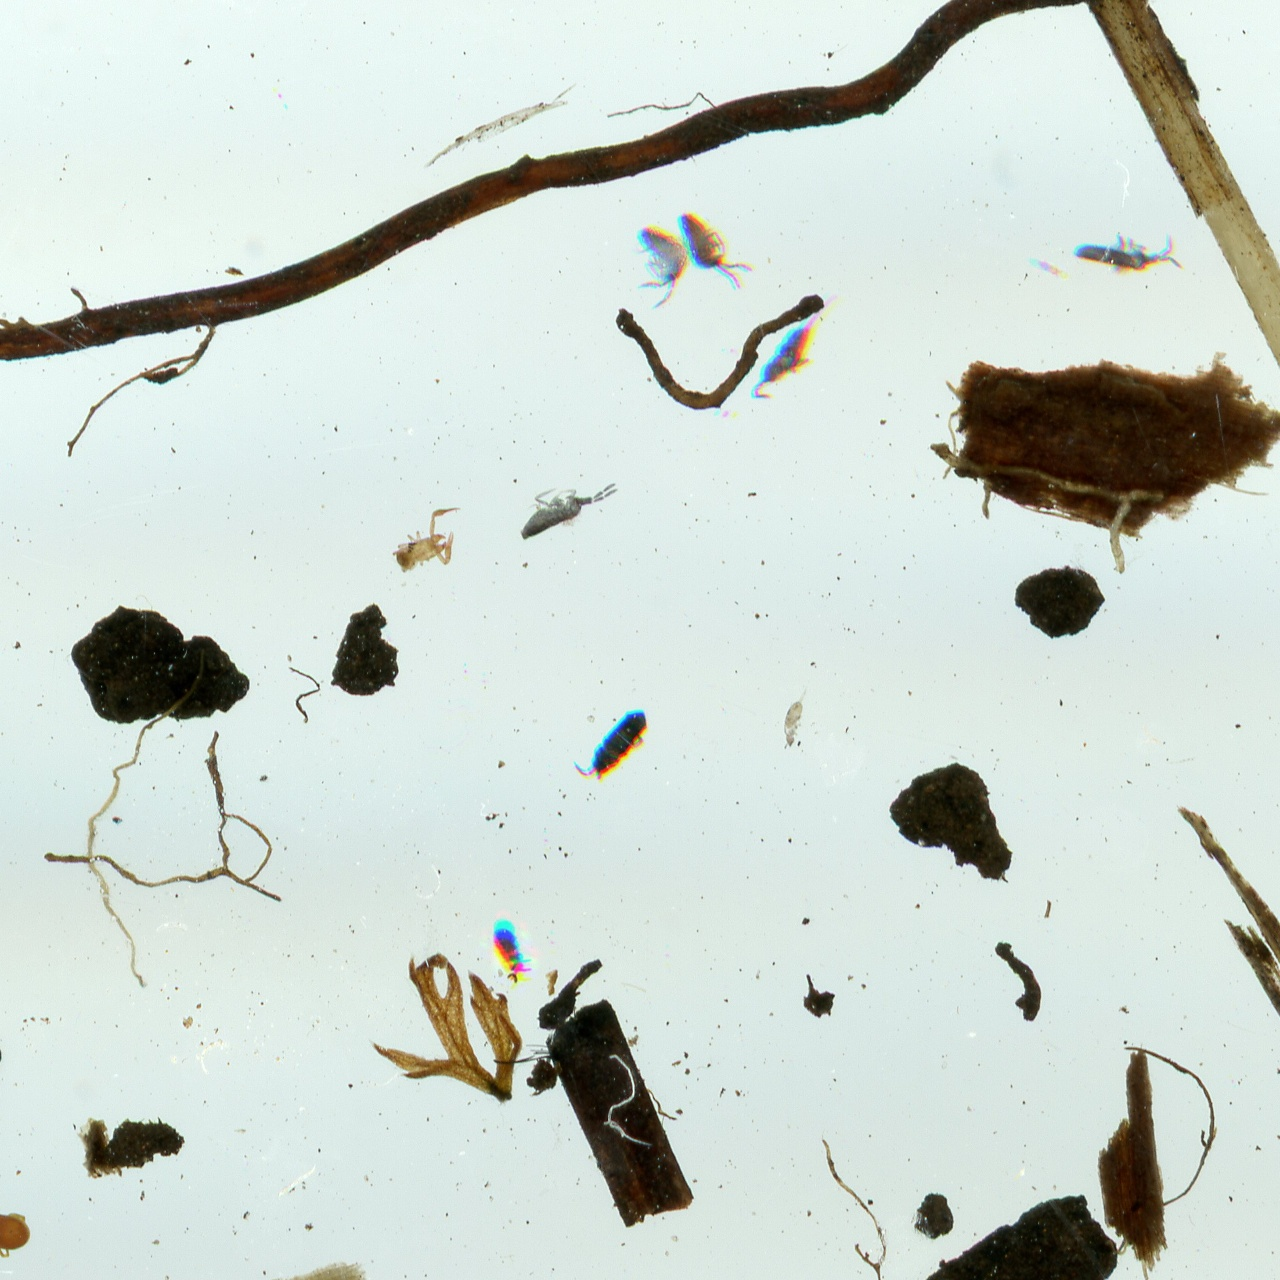arthropod: (739, 269, 862, 418), (491, 461, 628, 554), (565, 687, 664, 798), (672, 191, 762, 305), (612, 211, 706, 317), (1069, 228, 1187, 278), (478, 912, 543, 994), (390, 505, 463, 576), (0, 1192, 35, 1263), (780, 680, 812, 754)
